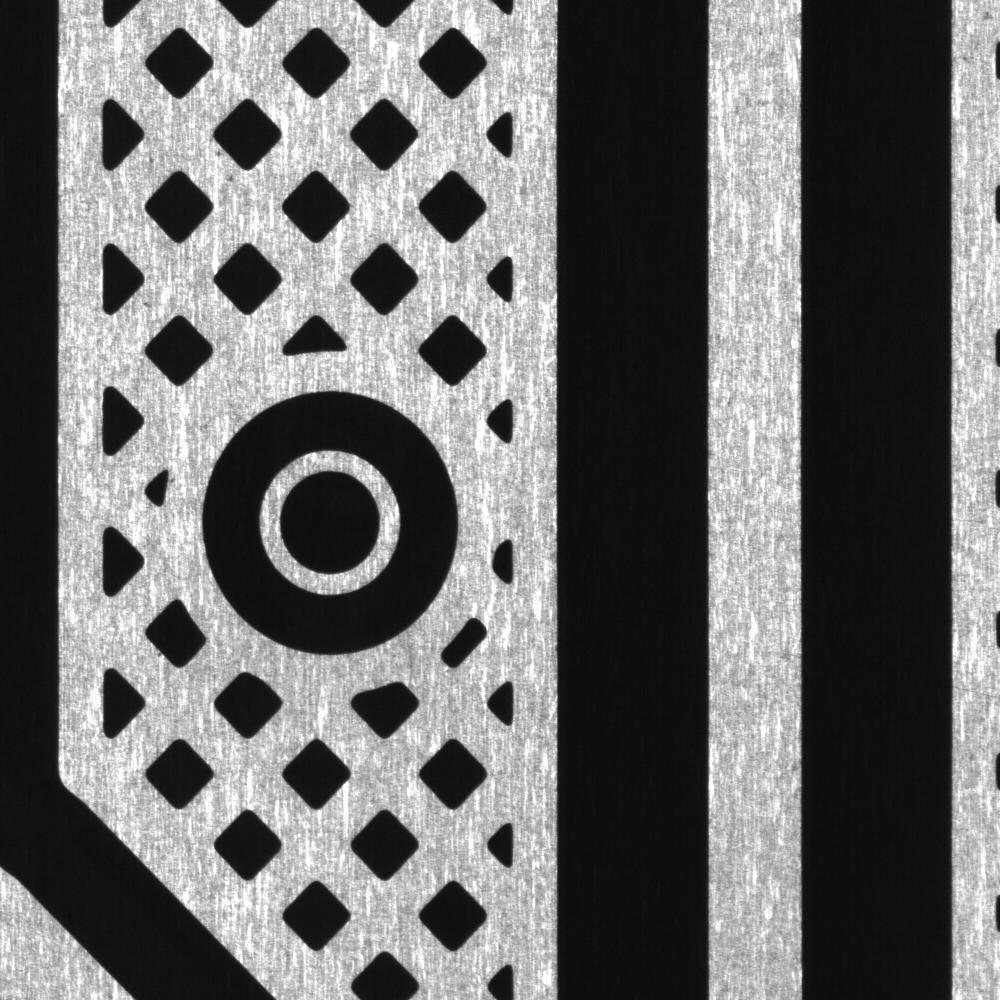Scar: (954, 675, 1000, 706), (953, 508, 996, 536), (763, 638, 801, 667)
